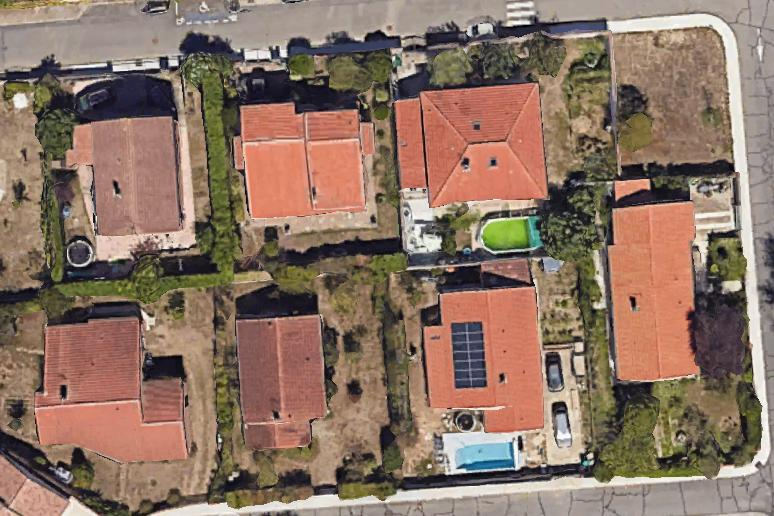maison: (31, 315, 187, 466), (418, 258, 547, 436), (393, 81, 546, 210), (605, 178, 697, 382), (231, 98, 378, 218), (69, 117, 180, 238), (234, 314, 328, 450), (0, 454, 68, 515)
